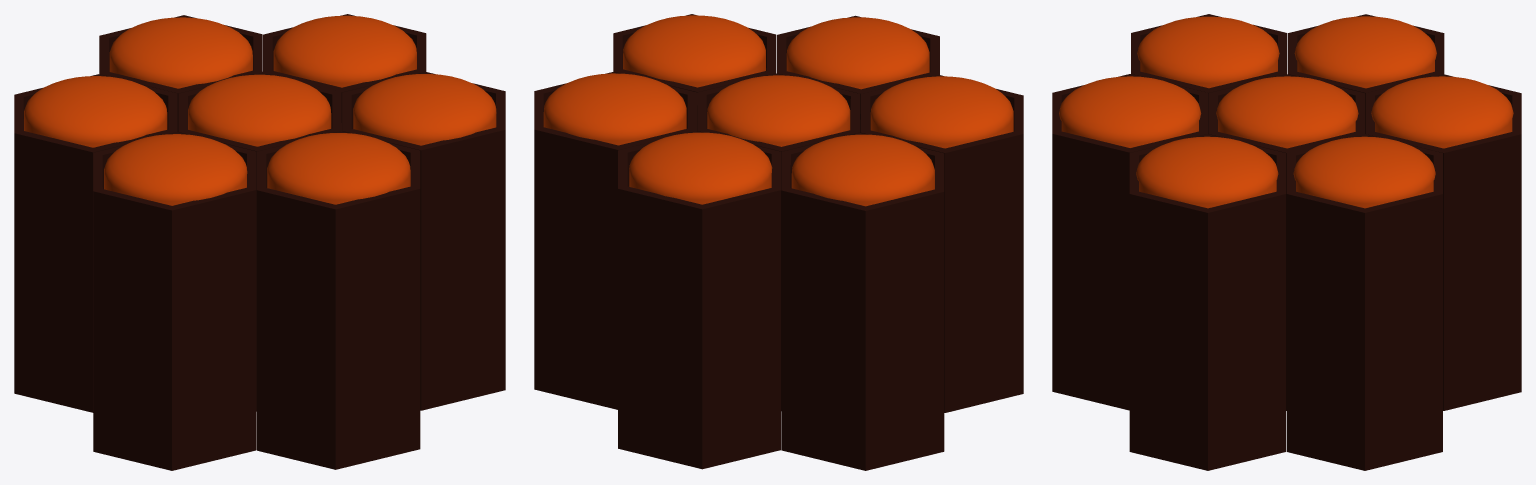
The model's file is honeycomb.obj.
3 renders of one model, left to right at view 1: azimuth 30°, elevation 25°; view 2: azimuth 150°, elevation 25°; view 3: azimuth 270°, elevation 25°, orthographic.
Visible parts, largest first — view 1: Sphere.007_Sphere; view 2: Sphere.007_Sphere; view 3: Sphere.007_Sphere.
Boxes of the visible parts, box(x1,y1,x2,y2) form: Sphere.007_Sphere: box(14, 14, 505, 470); Sphere.007_Sphere: box(534, 14, 1023, 470); Sphere.007_Sphere: box(1052, 14, 1521, 470).
Bounding box in the file's own units: 2.45 × 1.61 × 2.45.
